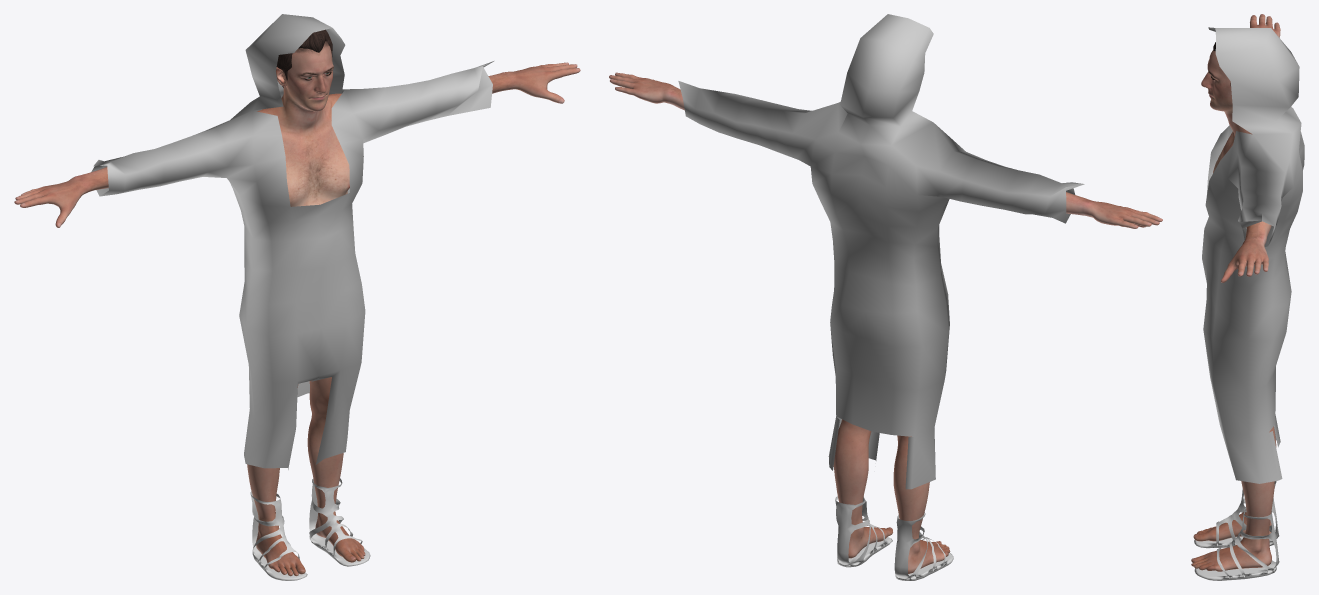
The model's file is r'dercapta'n.fbx.
3 views of the same model, side by side, from view 1: azimuth 30°, elevation 25°; view 2: azimuth 150°, elevation 25°; view 3: azimuth 270°, elevation 25° (orthographic).
Parts seen in each view (by area): view 1: Plane, Body, Cube, Hair; view 2: Plane, Body, Cube; view 3: Plane, Body, Cube.
Part boxes in pixels (x1,y1,x2,y2): Plane: [91, 14, 493, 469]; Body: [14, 41, 580, 576]; Cube: [250, 478, 370, 580]; Hair: [276, 29, 332, 87]; Plane: [678, 14, 1084, 489]; Body: [609, 72, 1162, 573]; Cube: [835, 496, 953, 580]; Plane: [1202, 27, 1304, 483]; Body: [1191, 14, 1280, 571]; Cube: [1194, 481, 1279, 580].
Bounding box in the file's own units: 587 × 539 × 105.
